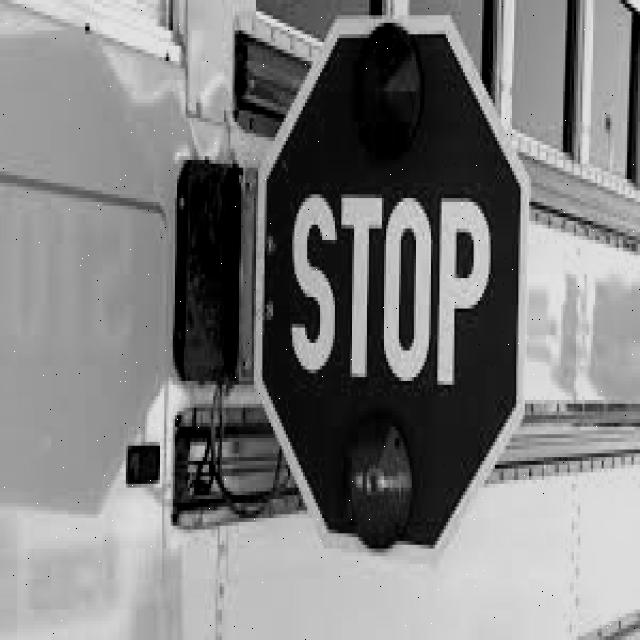stop sign: (261, 14, 524, 560)
